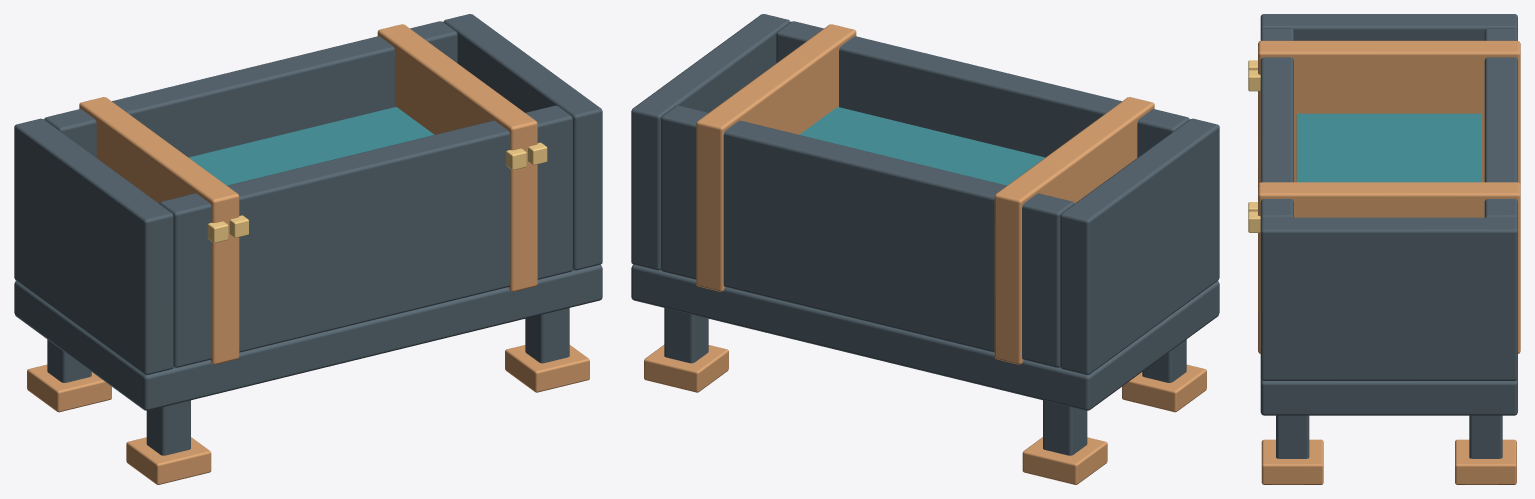
File: dwarven-runeforge-dungeon-dwarven-runeforge-dungeon-qu-3dd69247__28597.glb
The picture shows the model from 3 angles, left to right: view 1: azimuth 30°, elevation 25°; view 2: azimuth 150°, elevation 25°; view 3: azimuth 270°, elevation 25°; orthographic projection. The views are drawn at different scales.
Parts seen in each view (by area): view 1: dwarven-runeforge-dungeon-quench-trough; view 2: dwarven-runeforge-dungeon-quench-trough; view 3: dwarven-runeforge-dungeon-quench-trough.
Part boxes in pixels (left/top/right/bottom): dwarven-runeforge-dungeon-quench-trough: left=14, top=14, right=602, bottom=484; dwarven-runeforge-dungeon-quench-trough: left=631, top=14, right=1219, bottom=484; dwarven-runeforge-dungeon-quench-trough: left=1248, top=14, right=1520, bottom=484.
Size of the model in its own units: 2 by 1.14 by 1.06.
